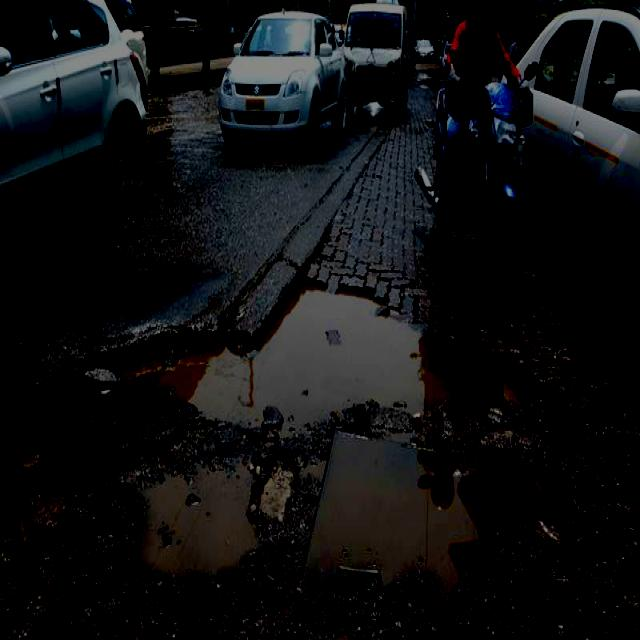Pothole: (61, 272, 546, 436), (299, 409, 565, 611)
